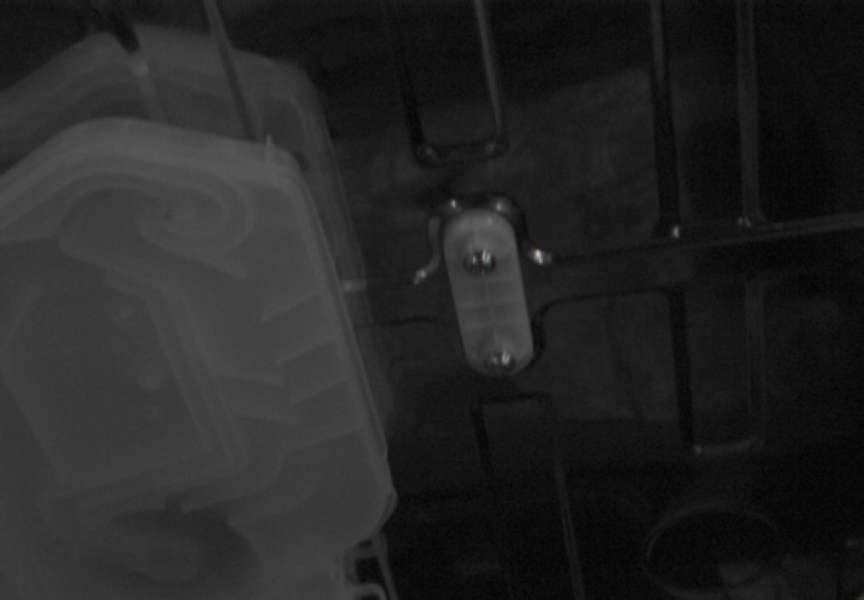screw: (463, 249, 496, 275), (485, 349, 517, 375)
